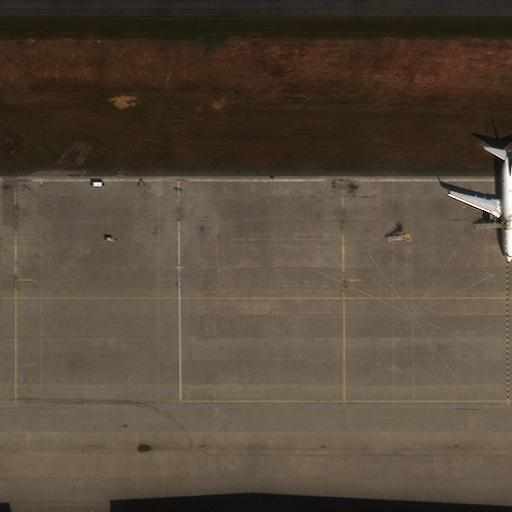Medium Civil Transport: (449, 149, 512, 262)
